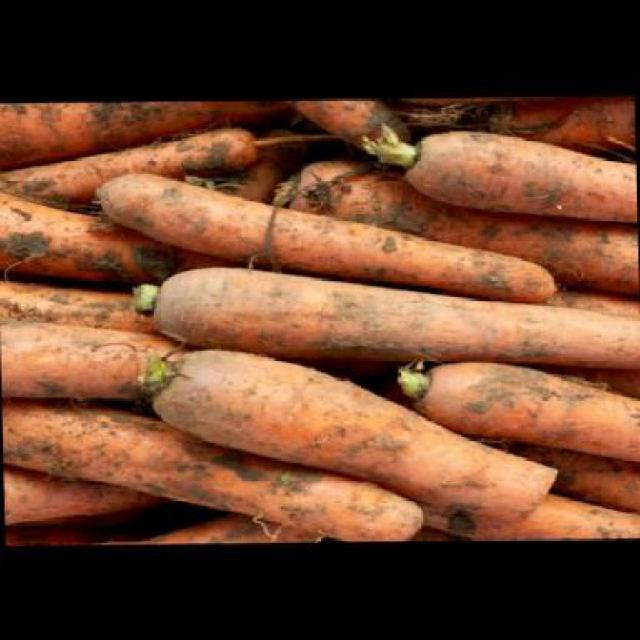carrot: (139, 346, 558, 532), (2, 383, 426, 546), (95, 166, 554, 308), (151, 260, 638, 382), (272, 154, 639, 315), (410, 358, 638, 493), (0, 166, 246, 288), (0, 98, 311, 180), (402, 128, 636, 232), (0, 289, 212, 400), (0, 125, 262, 206), (486, 432, 639, 540), (421, 469, 639, 542), (4, 457, 173, 538), (418, 94, 636, 154), (0, 258, 163, 336), (290, 97, 405, 155), (539, 289, 639, 353), (552, 369, 638, 416)
